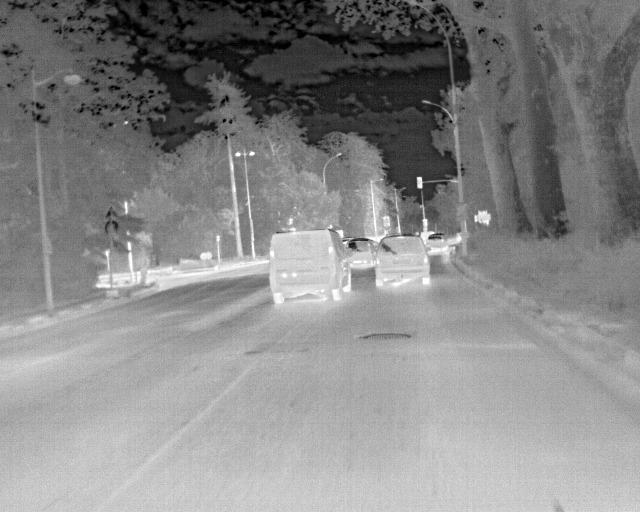car: (269, 229, 354, 305), (375, 235, 431, 286), (347, 237, 377, 264), (426, 234, 448, 256), (446, 232, 462, 246), (420, 231, 435, 244)
light: (416, 177, 423, 189), (423, 219, 427, 231)
sign: (455, 203, 469, 221), (105, 220, 119, 235), (105, 206, 118, 219), (383, 217, 390, 227), (200, 253, 208, 260), (206, 252, 212, 259)
